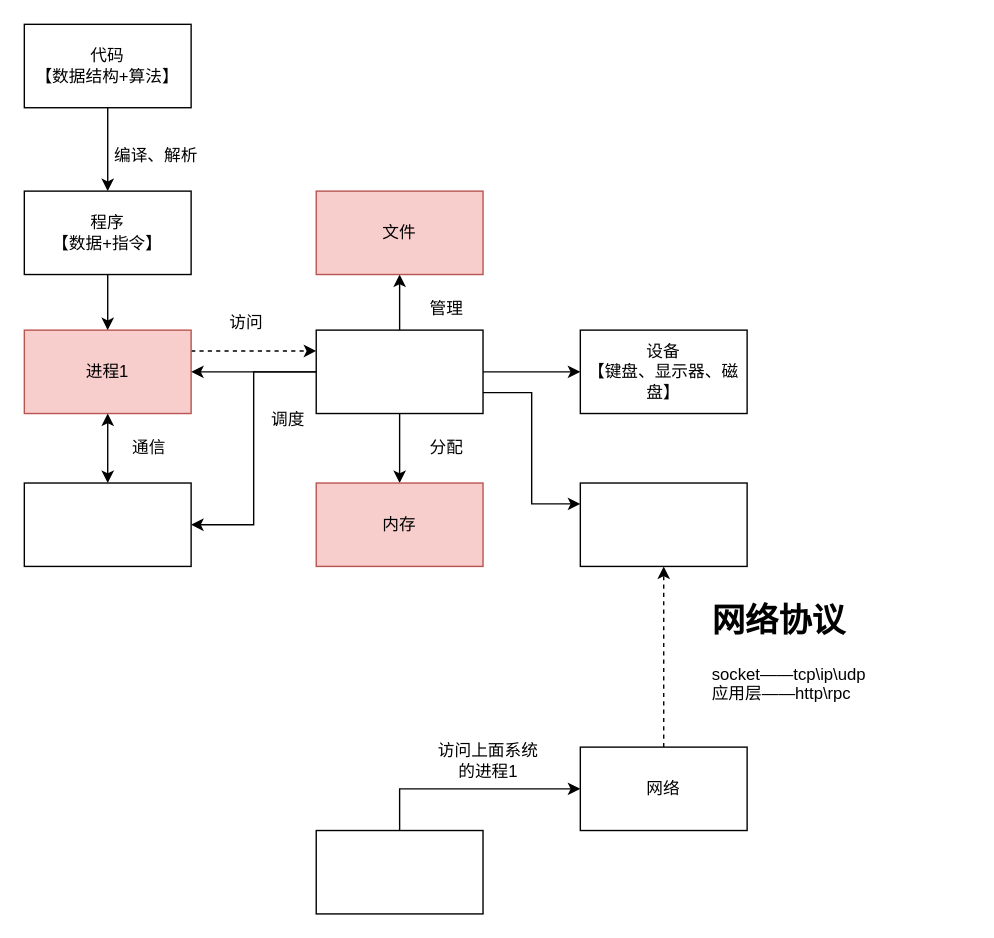
This 994x938 diagram has some shape labels left out. Here are the shapes that lost their labels. From the top down, the box of each, then its label:
(315, 329, 483, 414): 操作系统 【用户态、内核态】
(23, 482, 191, 566): 进程2
(579, 482, 747, 566): 网络 【网卡是一种 设备】
(315, 829, 483, 914): 操作系统2 【内存、进程、文件、磁盘】
